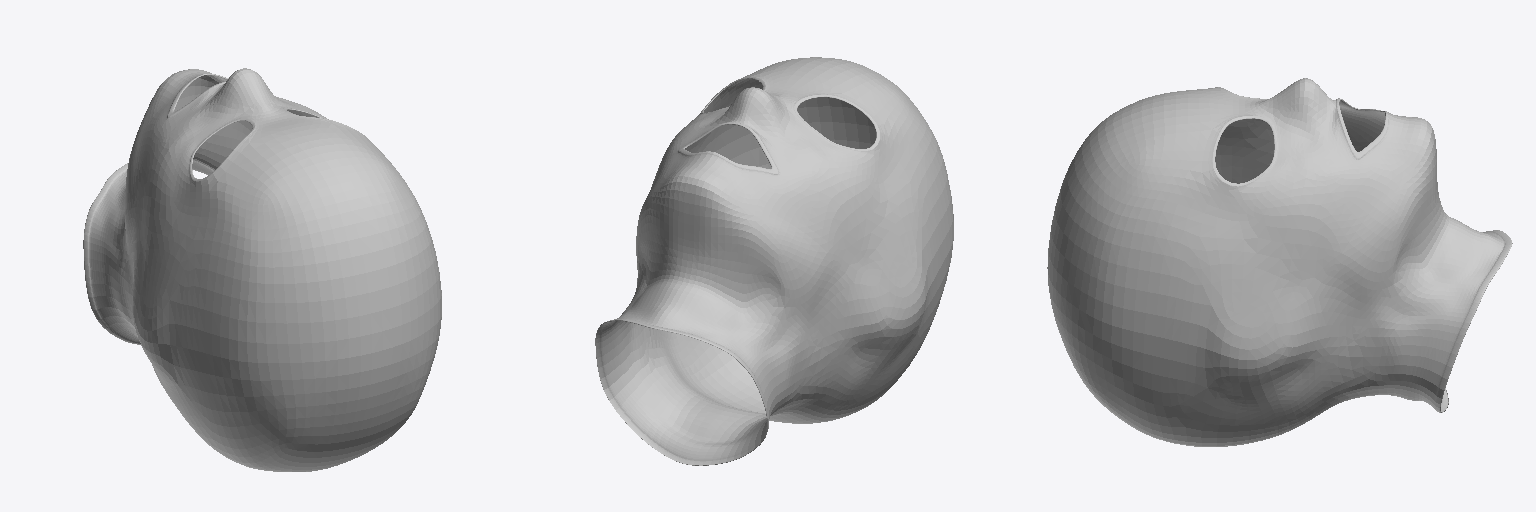
File: mask.obj
3 views of the same model, side by side, from view 1: azimuth 30°, elevation 25°; view 2: azimuth 150°, elevation 25°; view 3: azimuth 270°, elevation 25° (orthographic).
Visible parts, largest first — view 1: v3_Bhood01; view 2: v3_Bhood01; view 3: v3_Bhood01.
Part boxes in pixels (left/top/right/bottom): v3_Bhood01: left=83, top=68, right=441, bottom=471; v3_Bhood01: left=595, top=57, right=953, bottom=465; v3_Bhood01: left=1047, top=78, right=1512, bottom=446.
Size of the model in its own units: 13.99 by 18.3 by 21.83.